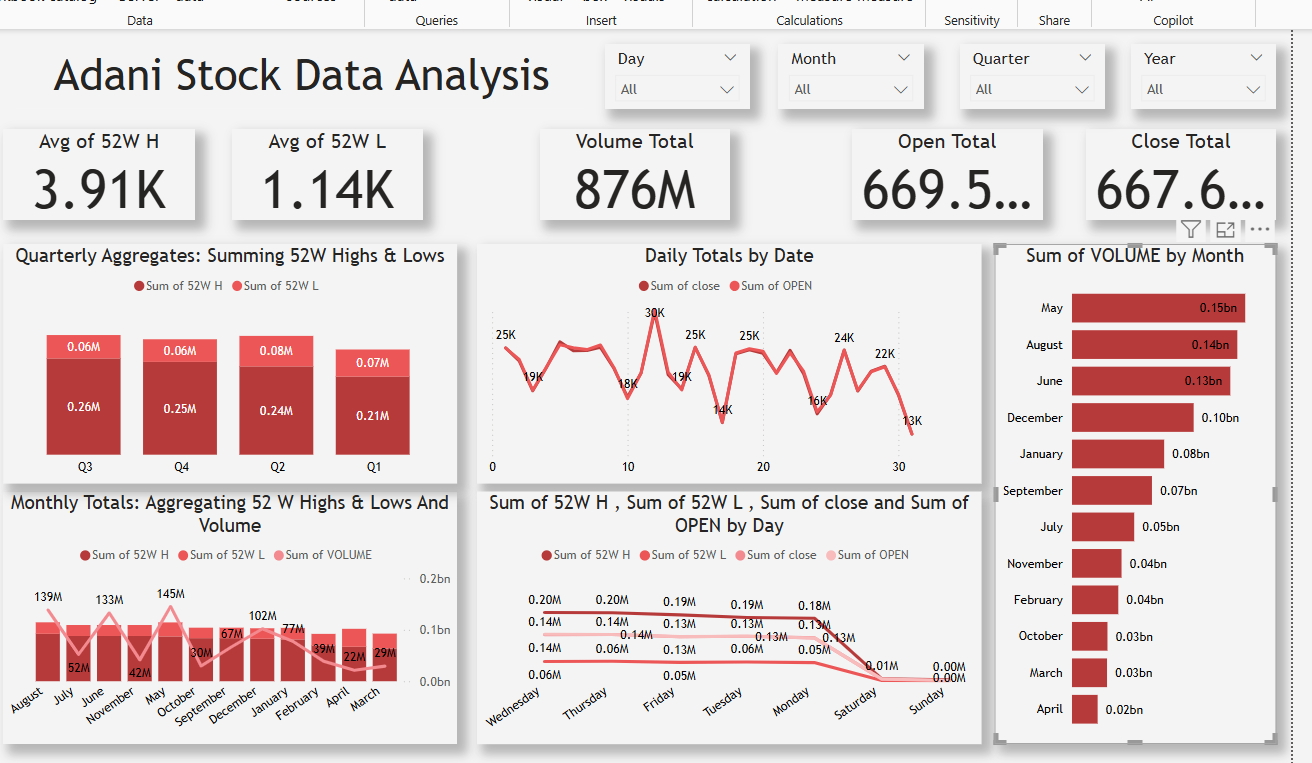

Layout of this report page (visuals, bound fields, positions):
{"tool":"powerbi","page":{"name":"Page 1","canvas":[1280,720],"ordinal":0},"visuals":[{"type":"slicer","fields":{"Values":["ADANI ENTERPRISES LIMITED.Day"]},"box":[608.5,14.8,142.2,63.7],"z":0},{"type":"slicer","fields":{"Values":["ADANI ENTERPRISES LIMITED.Month"]},"box":[779.1,14.8,142.2,63.7],"z":1000},{"type":"slicer","fields":{"Values":["ADANI ENTERPRISES LIMITED.Quarter"]},"box":[956.6,14.8,142.2,63.7],"z":2000},{"type":"slicer","fields":{"Values":["ADANI ENTERPRISES LIMITED.Year"]},"box":[1123.8,14.8,142.2,63.7],"z":3000},{"type":"card","title":"Avg of 52W H","fields":{"Values":["Avg(ADANI ENTERPRISES LIMITED.52W H )"]},"box":[20.5,97.8,187.7,88.7],"z":4000},{"type":"card","title":"Avg of 52W L","fields":{"Values":["Avg(ADANI ENTERPRISES LIMITED.52W L )"]},"box":[244.5,97.8,186.5,88.7],"z":5000},{"type":"card","title":"Close Total","fields":{"Values":["Sum(ADANI ENTERPRISES LIMITED.close )"]},"box":[1079.4,97.8,186.5,88.7],"z":6000},{"type":"card","title":"Open Total","fields":{"Values":["Sum(ADANI ENTERPRISES LIMITED.OPEN )"]},"box":[850.8,97.8,186.5,88.7],"z":7000},{"type":"card","title":"Volume Total","fields":{"Values":["Sum(ADANI ENTERPRISES LIMITED.VOLUME )"]},"box":[544.8,97.8,186.5,88.7],"z":8000},{"type":"columnChart","title":"Quarterly Aggregates: Summing 52W Highs & Lows","fields":{"Y":["Sum(ADANI ENTERPRISES LIMITED.52W H )","Sum(ADANI ENTERPRISES LIMITED.52W L )"],"Category":["ADANI ENTERPRISES LIMITED.Quarter"]},"box":[20.5,210.4,443.6,234.3],"z":9000},{"type":"lineStackedColumnComboChart","title":"Monthly Totals: Aggregating 52 W Highs & Lows And Volume","fields":{"Y":["Sum(ADANI ENTERPRISES LIMITED.52W H )","Sum(ADANI ENTERPRISES LIMITED.52W L )"],"Category":["ADANI ENTERPRISES LIMITED.Month"],"Y2":["Sum(ADANI ENTERPRISES LIMITED.VOLUME )"]},"box":[20.5,452.7,443.6,246.8],"z":10000},{"type":"lineChart","title":"Daily Totals by Date","fields":{"Y":["Sum(ADANI ENTERPRISES LIMITED.close )","Sum(ADANI ENTERPRISES LIMITED.OPEN )"],"Category":["ADANI ENTERPRISES LIMITED.Date .Variation.Date Hierarchy.Day"]},"box":[484.5,210.4,493.6,234.3],"z":11000},{"type":"lineChart","fields":{"Y":["Sum(ADANI ENTERPRISES LIMITED.52W H )","Sum(ADANI ENTERPRISES LIMITED.52W L )","Sum(ADANI ENTERPRISES LIMITED.close )","Sum(ADANI ENTERPRISES LIMITED.OPEN )"],"Category":["ADANI ENTERPRISES LIMITED.Day"]},"box":[484.5,452.7,493.6,246.8],"z":12000},{"type":"clusteredBarChart","fields":{"Category":["ADANI ENTERPRISES LIMITED.Month"],"Y":["Sum(ADANI ENTERPRISES LIMITED.VOLUME )"]},"box":[990.7,210.4,275.3,489.1],"z":13000},{"type":"image","box":[0,0,147.9,92.1],"z":14000},{"type":"textbox","box":[35.5,14.7,553.9,63.6],"z":15000}]}

Visuals, with their boxes on the page's 1280x720 design canvas (x1, y1, x2, y2). These are canvas units, not pixel positions in the 1312x763 screenshot, which may show the page scaled, cropped or inside an application window:
slicer - ADANI ENTERPRISES LIMITED.Day: x1=608 y1=15 x2=751 y2=78
slicer - ADANI ENTERPRISES LIMITED.Month: x1=779 y1=15 x2=921 y2=78
slicer - ADANI ENTERPRISES LIMITED.Quarter: x1=957 y1=15 x2=1099 y2=78
slicer - ADANI ENTERPRISES LIMITED.Year: x1=1124 y1=15 x2=1266 y2=78
"Avg of 52W H" card: x1=20 y1=98 x2=208 y2=186
"Avg of 52W L" card: x1=244 y1=98 x2=431 y2=186
"Close Total" card: x1=1079 y1=98 x2=1266 y2=186
"Open Total" card: x1=851 y1=98 x2=1037 y2=186
"Volume Total" card: x1=545 y1=98 x2=731 y2=186
"Quarterly Aggregates: Summing 52W Highs & Lows" columnChart: x1=20 y1=210 x2=464 y2=445
"Monthly Totals: Aggregating 52 W Highs & Lows And Volume" lineStackedColumnComboChart: x1=20 y1=453 x2=464 y2=700
"Daily Totals by Date" lineChart: x1=484 y1=210 x2=978 y2=445
lineChart - Sum(ADANI ENTERPRISES LIMITED.52W H ) x Sum(ADANI ENTERPRISES LIMITED.52W L ): x1=484 y1=453 x2=978 y2=700
clusteredBarChart - ADANI ENTERPRISES LIMITED.Month x Sum(ADANI ENTERPRISES LIMITED.VOLUME ): x1=991 y1=210 x2=1266 y2=700
image: x1=0 y1=0 x2=148 y2=92
textbox: x1=36 y1=15 x2=589 y2=78
